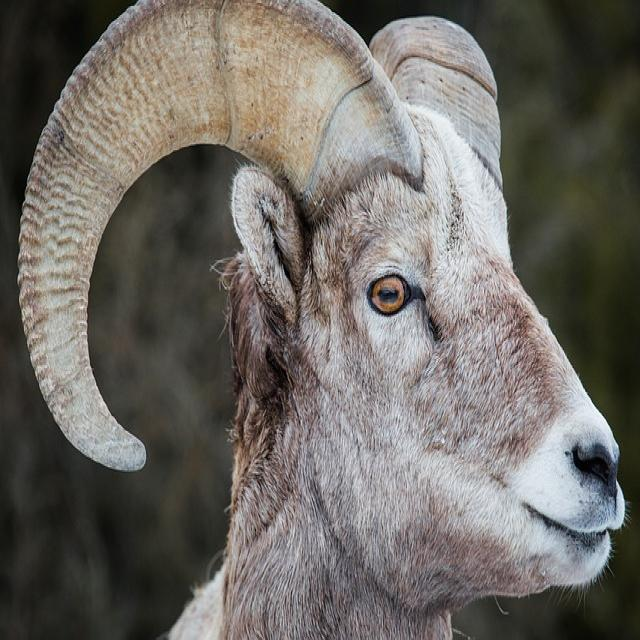goat: (17, 0, 630, 640)
